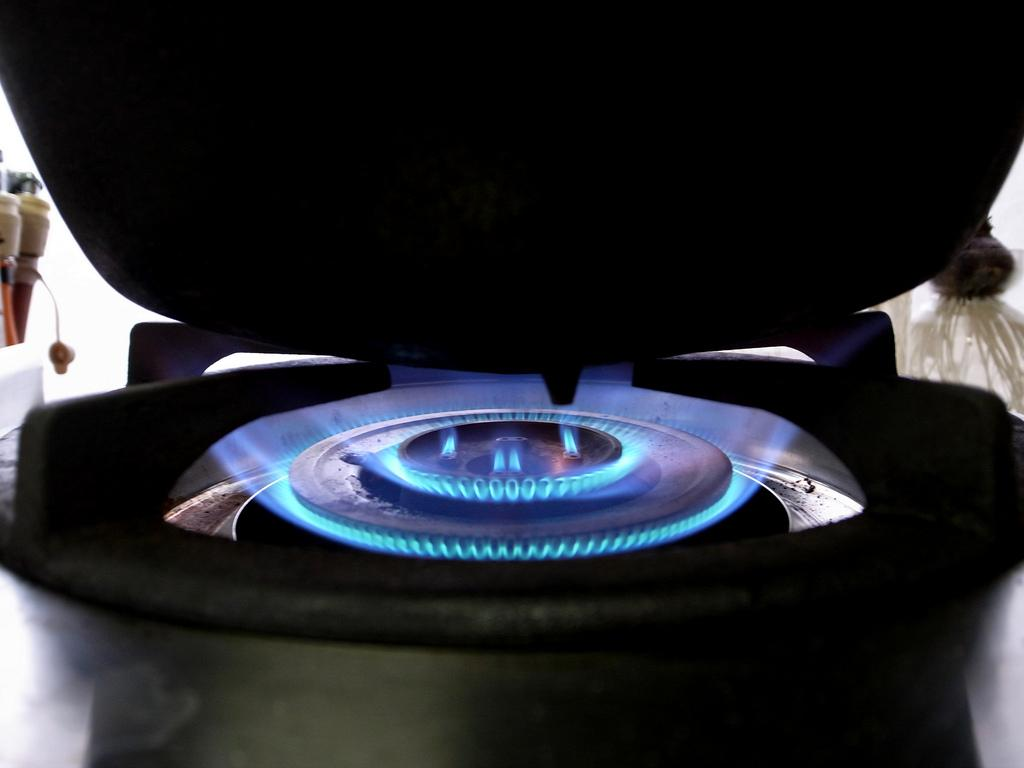fire: (312, 392, 706, 534)
